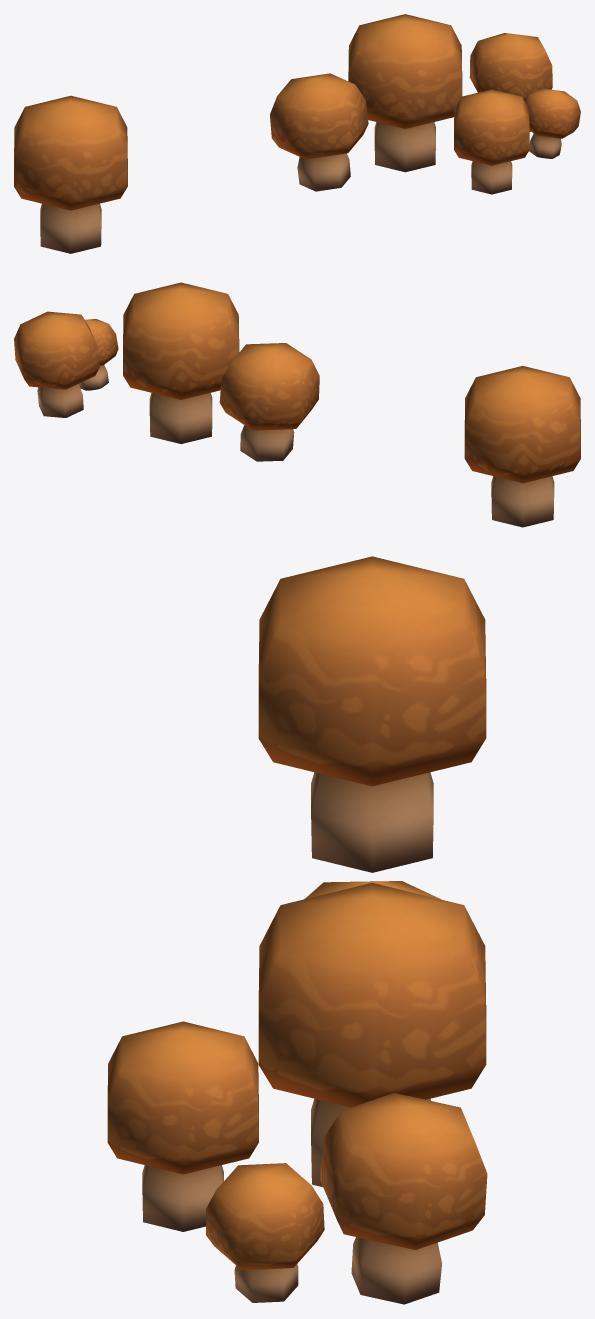
Rendered from Mushroom_10.FBX.
3 views of the same model, one above another, from view 1: azimuth 30°, elevation 25°; view 2: azimuth 150°, elevation 25°; view 3: azimuth 270°, elevation 25° (orthographic). The views are drawn at different scales.
Visible parts, largest first — view 1: Mushroom 10_group, Mushroom 10_single; view 2: Mushroom 10_group, Mushroom 10_single; view 3: Mushroom 10_group, Mushroom 10_single.
Boxes of the visible parts, bbox=[...] form: Mushroom 10_group: bbox=[270, 14, 580, 194]; Mushroom 10_single: bbox=[14, 95, 127, 253]; Mushroom 10_group: bbox=[14, 282, 319, 461]; Mushroom 10_single: bbox=[464, 366, 580, 527]; Mushroom 10_group: bbox=[107, 881, 487, 1304]; Mushroom 10_single: bbox=[258, 556, 486, 872].
Size of the model in its own units: 20.55 by 5.21 by 6.23.
Materials: 1 (1 with a texture image).
